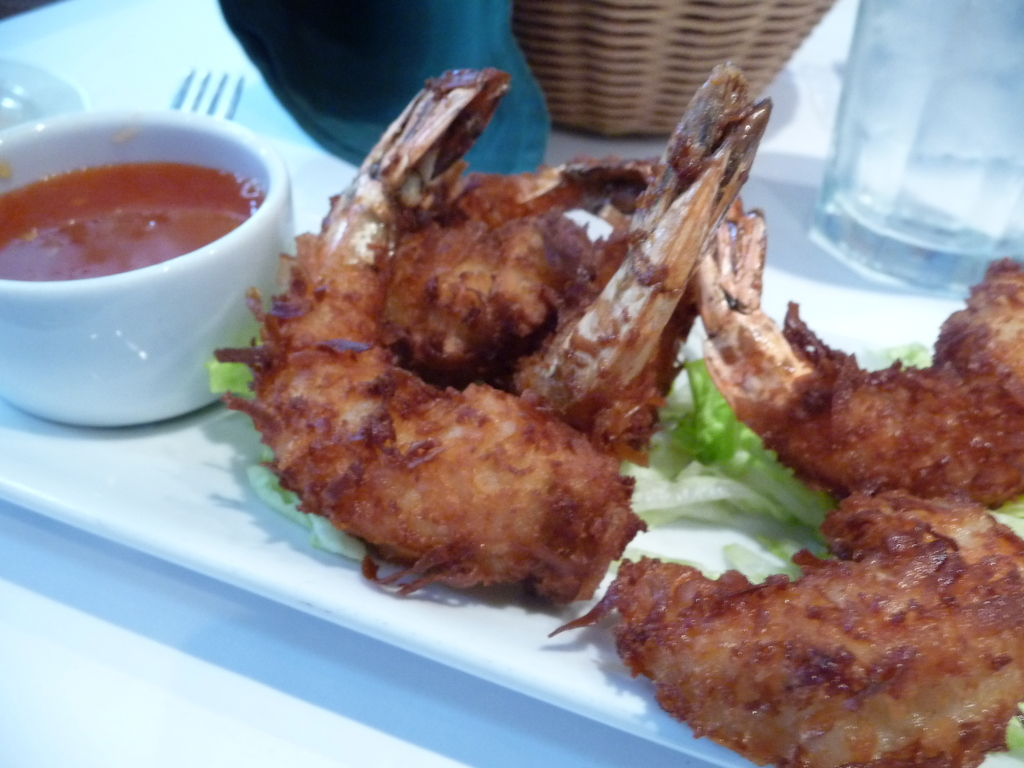person: (207, 0, 567, 187)
